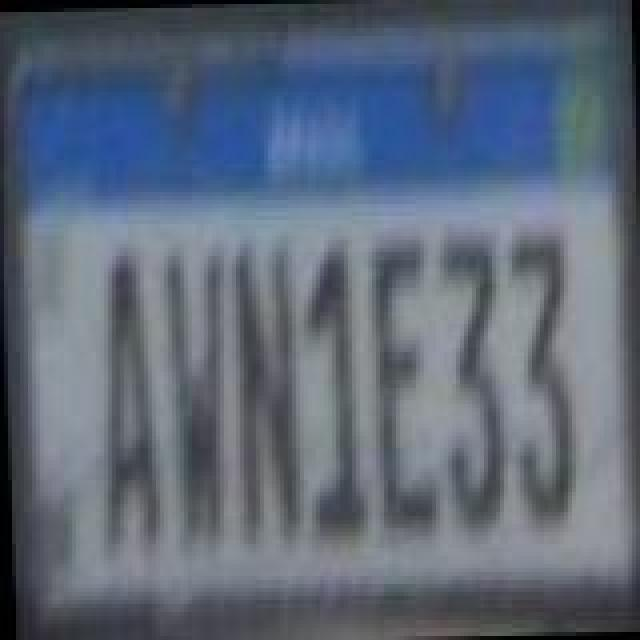1: (298, 236, 366, 532)
3: (430, 230, 506, 542), (504, 222, 576, 530)
A: (88, 250, 160, 546)
E: (366, 228, 442, 528)
N: (226, 234, 302, 554)
W: (160, 242, 232, 550)
